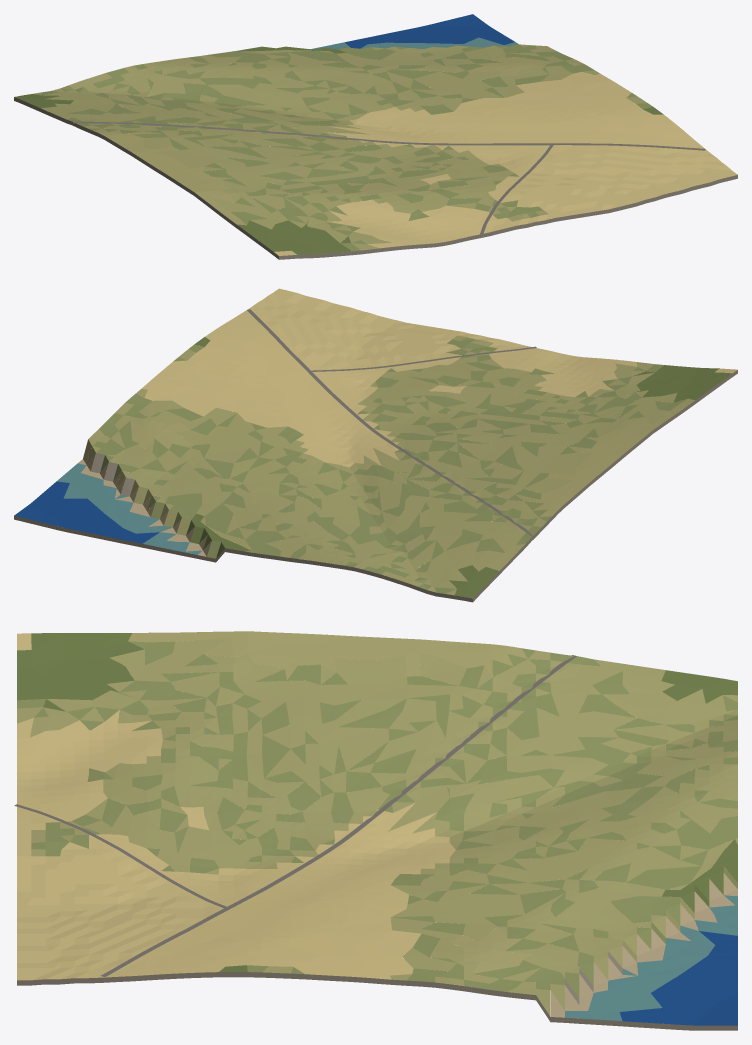
Rendered from parca_+13_-2-uzak.glb.
3 renders of one model, top to bottom at view 1: azimuth 30°, elevation 25°; view 2: azimuth 150°, elevation 25°; view 3: azimuth 270°, elevation 25°, orthographic. The views are drawn at different scales.
Parts seen in each view (by area): view 1: parca_+13_-2_arazi_uzak, parca_+13_-2_yollar_uzak; view 2: parca_+13_-2_arazi_uzak, parca_+13_-2_yollar_uzak; view 3: parca_+13_-2_arazi_uzak, parca_+13_-2_yollar_uzak.
Boxes of the visible parts, bbox=[...] form: parca_+13_-2_arazi_uzak: bbox=[14, 14, 737, 259]; parca_+13_-2_yollar_uzak: bbox=[73, 121, 705, 234]; parca_+13_-2_arazi_uzak: bbox=[14, 288, 737, 602]; parca_+13_-2_yollar_uzak: bbox=[247, 309, 536, 536]; parca_+13_-2_arazi_uzak: bbox=[17, 631, 737, 1030]; parca_+13_-2_yollar_uzak: bbox=[14, 655, 576, 977].
Bounding box in the file's own units: 1004 × 145 × 1004.
